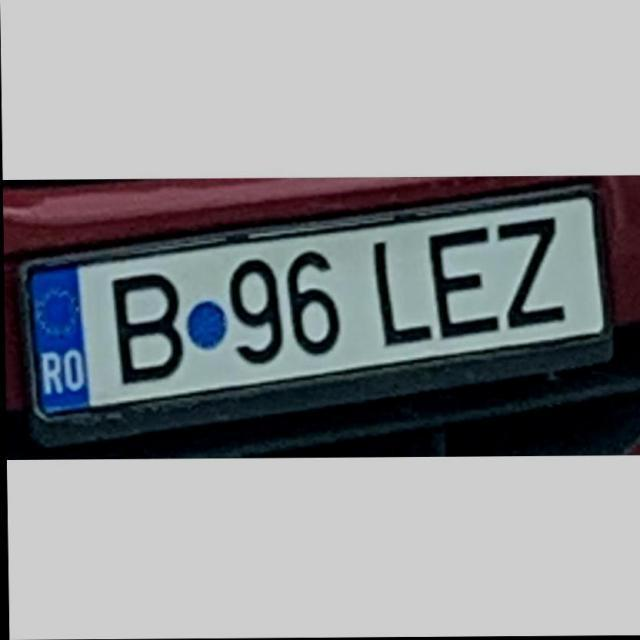license-plates: (25, 188, 611, 420)
